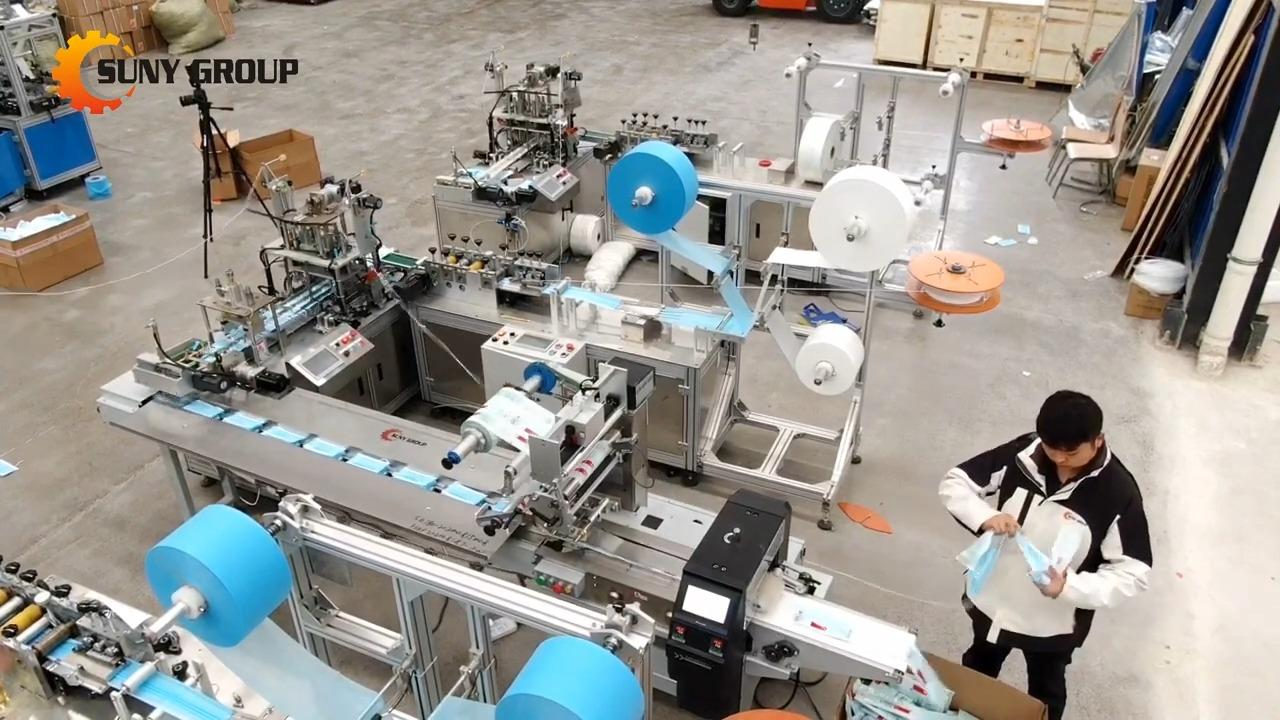mask: (442, 482, 489, 506), (306, 437, 346, 458), (182, 397, 224, 417), (347, 452, 389, 471), (398, 467, 434, 489), (265, 424, 302, 442), (225, 413, 263, 430)
